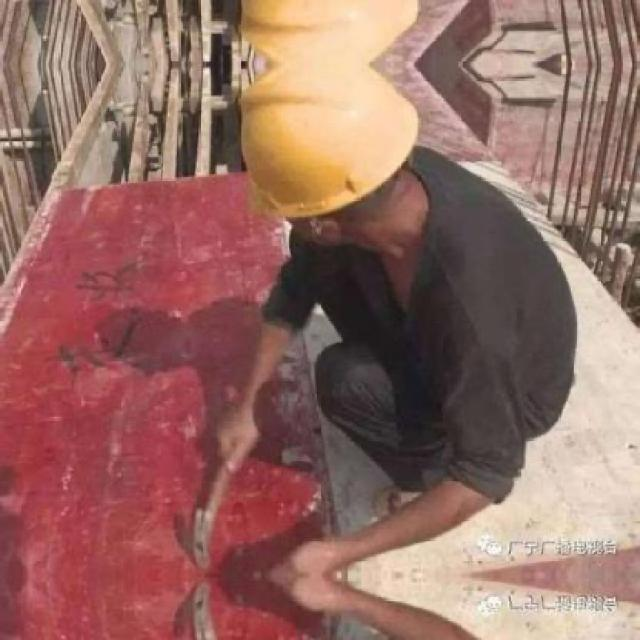helmet: (219, 63, 443, 266), (218, 0, 444, 65)
